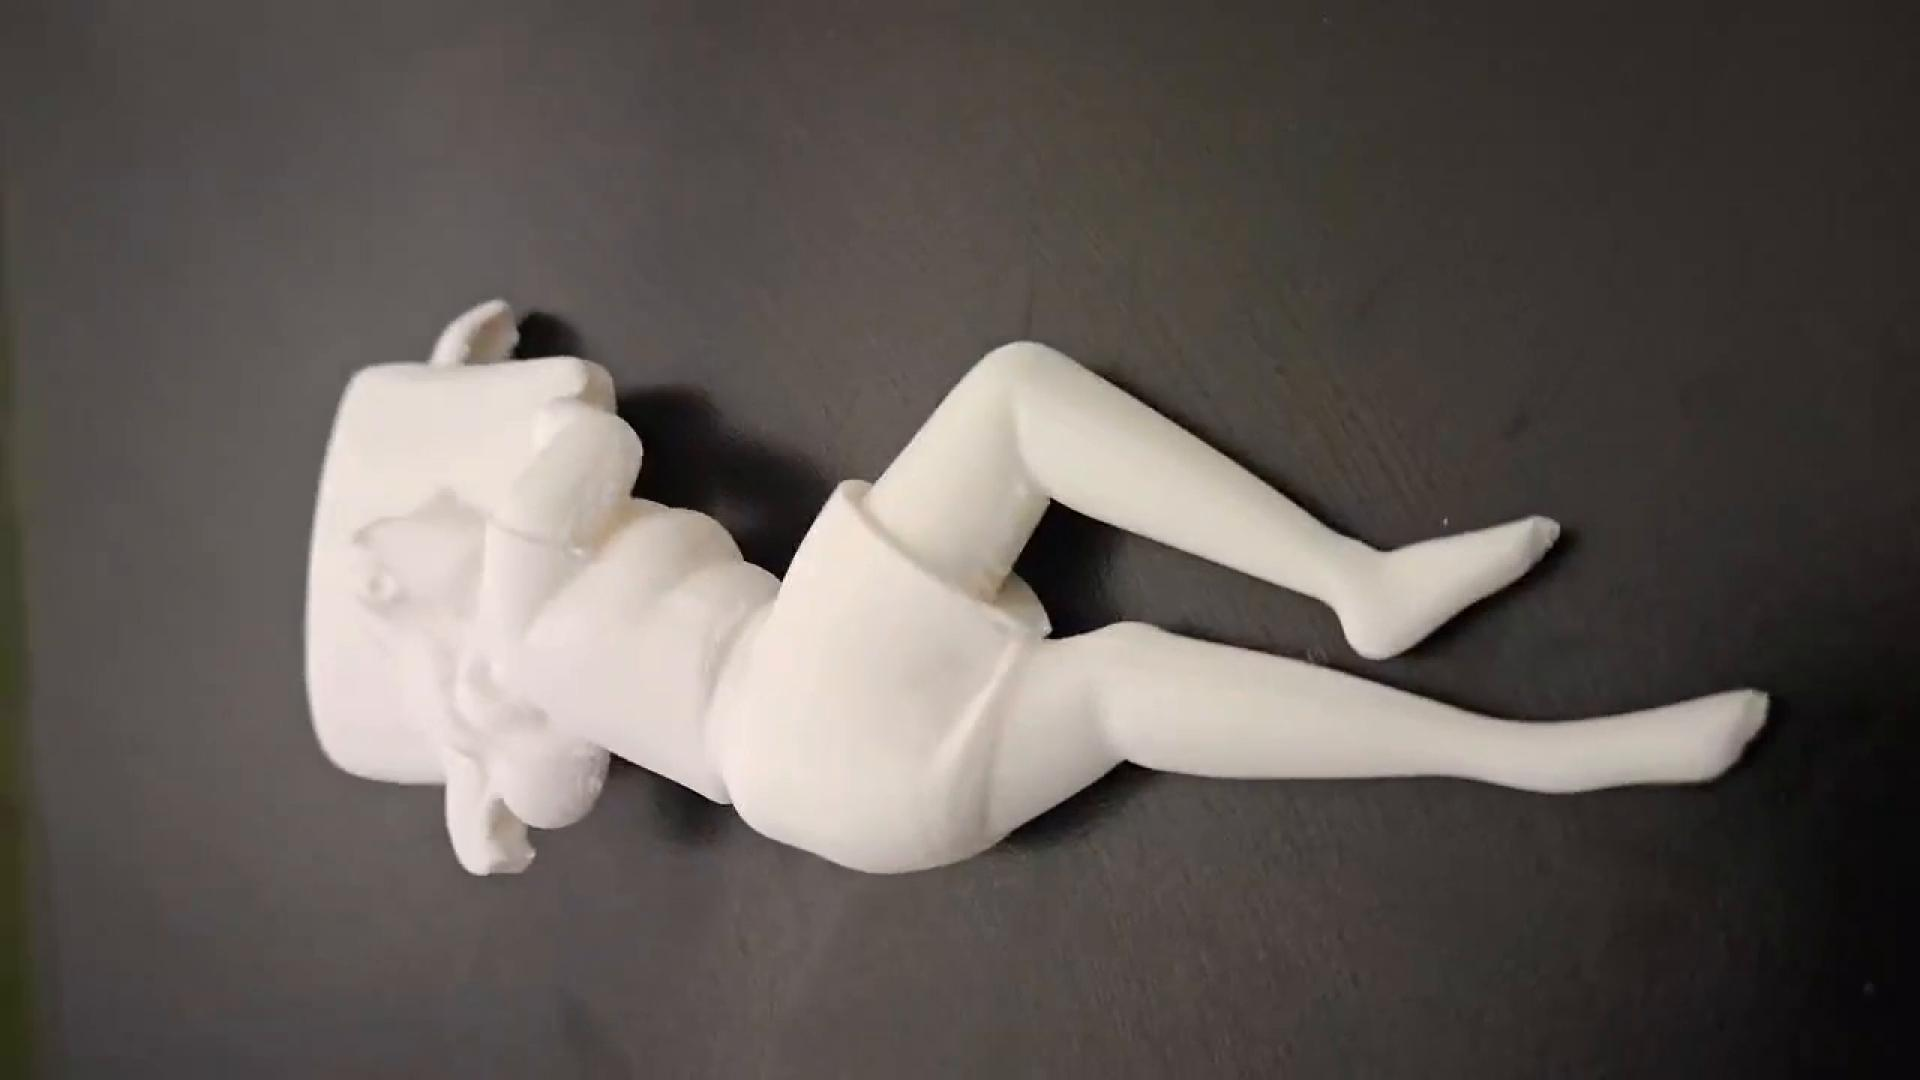Good-style: (302, 295, 1775, 881)
